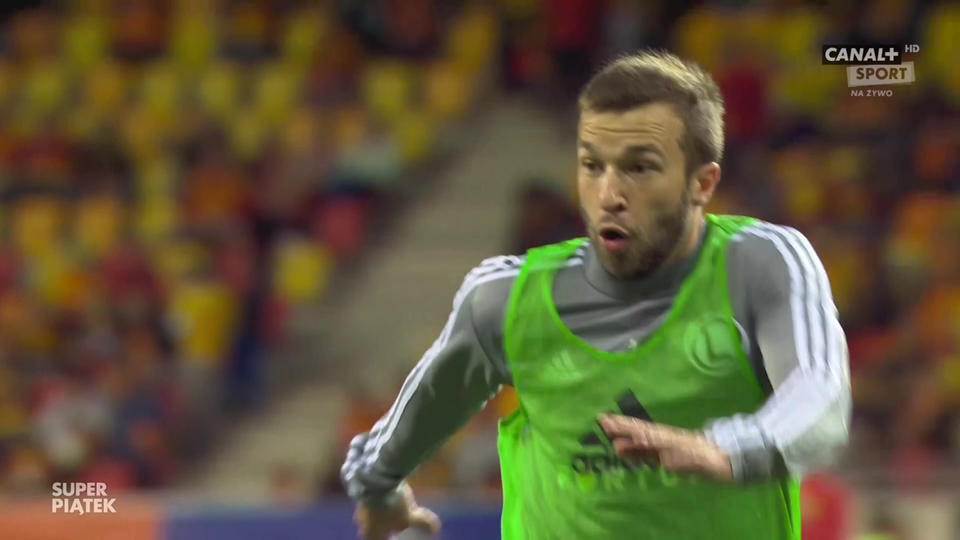Adidas: (569, 386, 684, 478)
